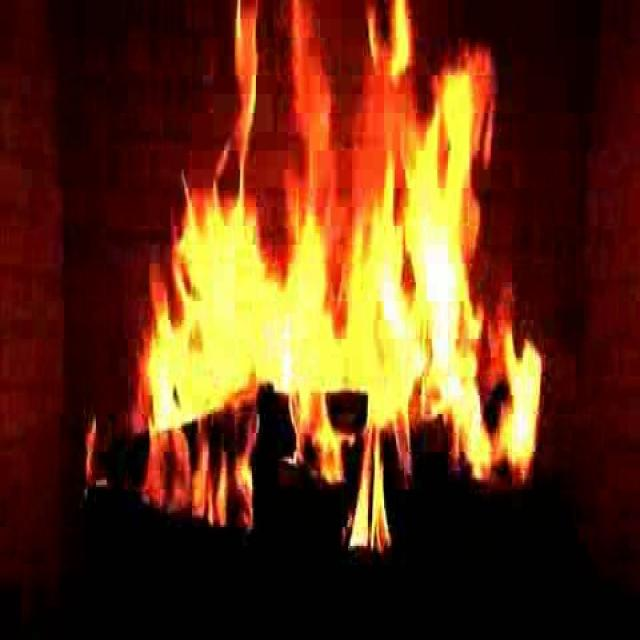fire: (138, 26, 544, 541)
